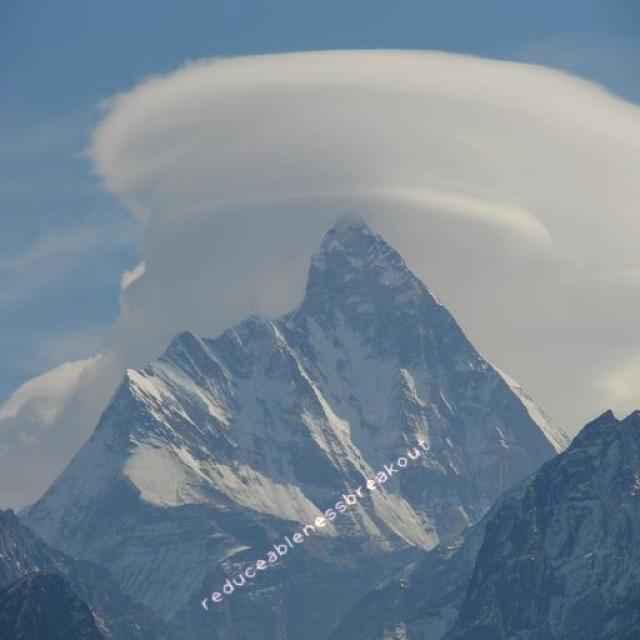watermark: (200, 432, 430, 614)
